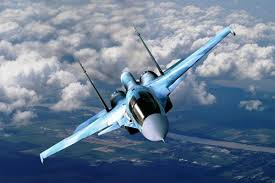maybay_muctieu: (34, 33, 227, 160)
